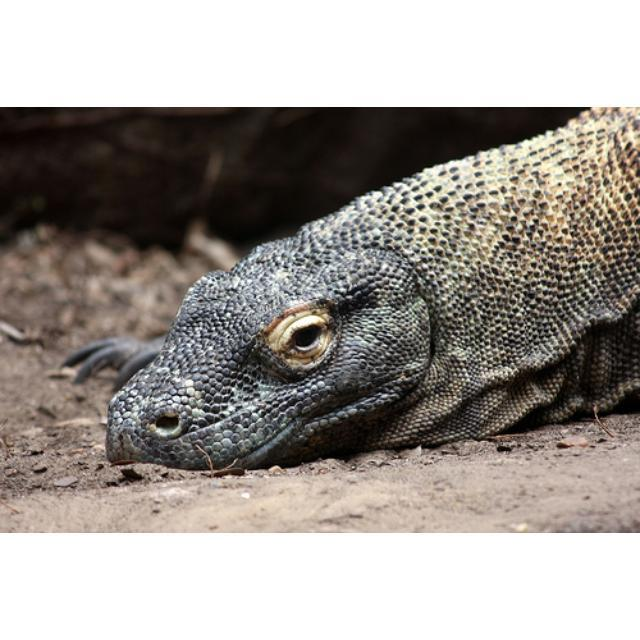KomodoDragon: (55, 117, 638, 484)
